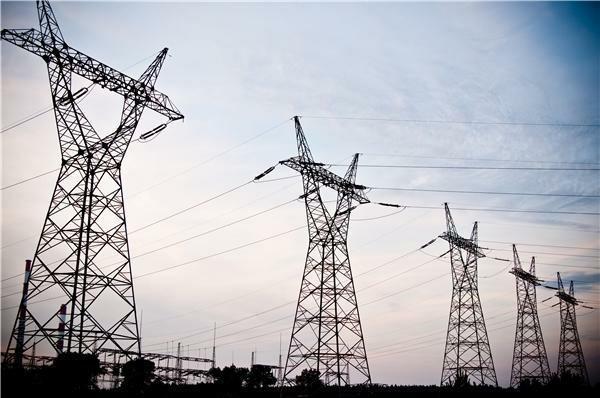power_tower: (0, 0, 190, 394), (247, 111, 384, 398), (418, 198, 506, 388), (504, 236, 555, 388), (542, 261, 591, 390)
